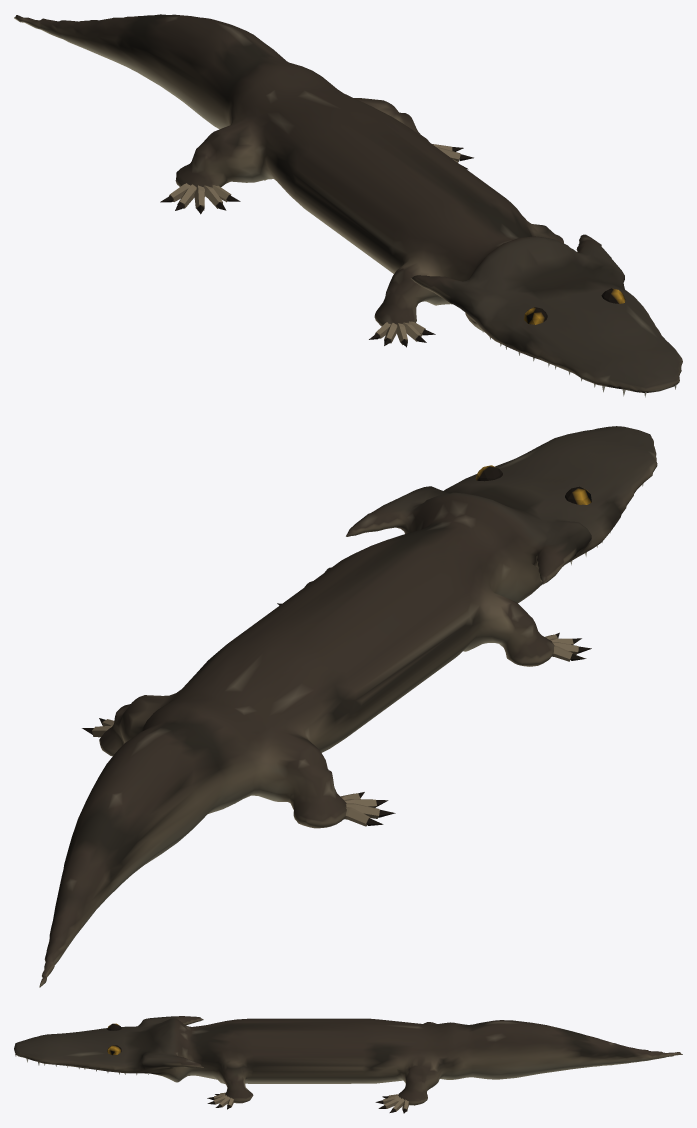
File: Cochleosaurus.fbx
3 renders of one model, top to bottom at view 1: azimuth 30°, elevation 25°; view 2: azimuth 150°, elevation 25°; view 3: azimuth 270°, elevation 25°, orthographic. The views are drawn at different scales.
Parts seen in each view (by area): view 1: Cochleosaurus; view 2: Cochleosaurus; view 3: Cochleosaurus.
Part boxes in pixels (<box>): Cochleosaurus: <box>14,14,682,397</box>; Cochleosaurus: <box>39,426,657,987</box>; Cochleosaurus: <box>14,1016,682,1113</box>.
Size of the model in its own units: 0.3709 by 0.1214 by 1.32.
